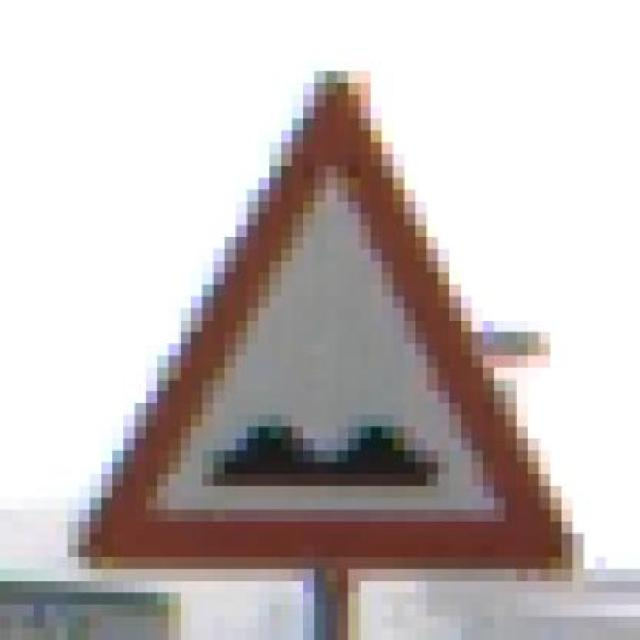Uneven Road: (67, 59, 584, 581)
